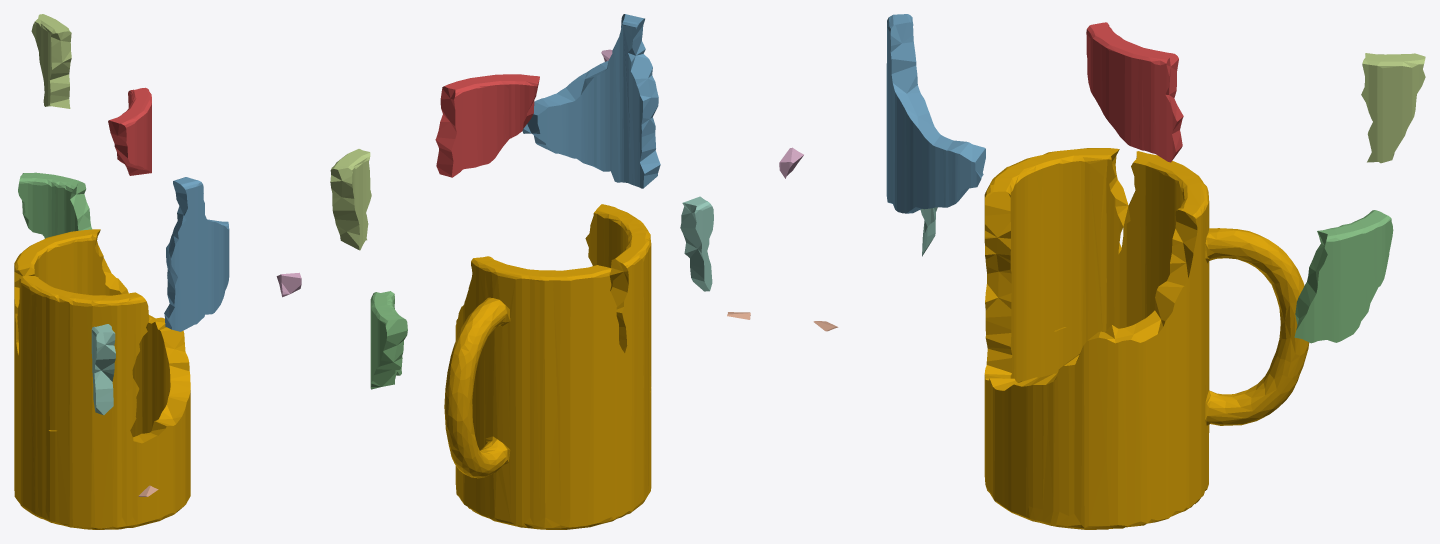
File: fractured_26_8pcs_transformed.glb
The picture shows the model from 3 angles, left to right: view 1: azimuth 30°, elevation 25°; view 2: azimuth 150°, elevation 25°; view 3: azimuth 270°, elevation 25°; orthographic projection. The views are drawn at different scales.
Parts seen in each view (by area): view 1: piece_0.obj, piece_2.obj, piece_3.obj, piece_1.obj, piece_5.obj, piece_4.obj, piece_6.obj; view 2: piece_0.obj, piece_2.obj, piece_1.obj, piece_5.obj, piece_3.obj, piece_4.obj; view 3: piece_0.obj, piece_2.obj, piece_1.obj, piece_3.obj, piece_5.obj.
Boxes of the visible parts, bbox=[...] form: piece_0.obj: bbox=[14, 229, 190, 529]; piece_2.obj: bbox=[164, 177, 229, 331]; piece_3.obj: bbox=[18, 172, 92, 238]; piece_1.obj: bbox=[108, 87, 151, 175]; piece_5.obj: bbox=[31, 14, 71, 108]; piece_4.obj: bbox=[91, 324, 115, 415]; piece_6.obj: bbox=[276, 272, 301, 297]; piece_0.obj: bbox=[444, 204, 651, 529]; piece_2.obj: bbox=[522, 14, 660, 188]; piece_1.obj: bbox=[435, 74, 539, 177]; piece_5.obj: bbox=[330, 149, 371, 250]; piece_3.obj: bbox=[370, 291, 407, 389]; piece_4.obj: bbox=[680, 196, 713, 291]; piece_0.obj: bbox=[984, 148, 1309, 529]; piece_2.obj: bbox=[886, 14, 985, 213]; piece_1.obj: bbox=[1086, 22, 1183, 162]; piece_3.obj: bbox=[1294, 210, 1393, 343]; piece_5.obj: bbox=[1361, 53, 1425, 163].
Bounding box in the file's own units: 0.6884 × 1.58 × 1.98.
